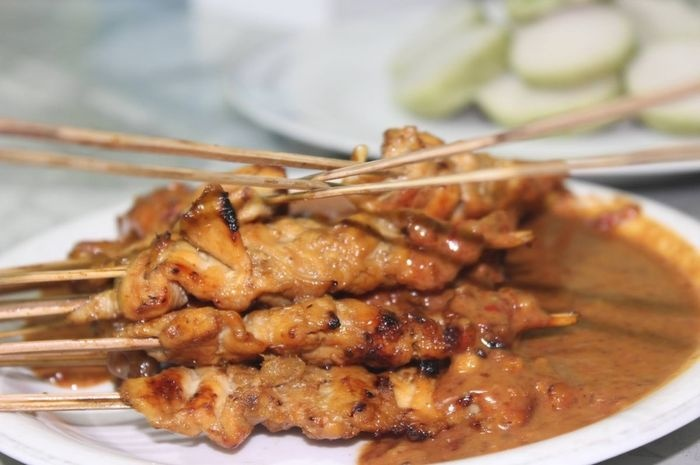sate: (0, 295, 463, 453), (0, 181, 462, 321)
